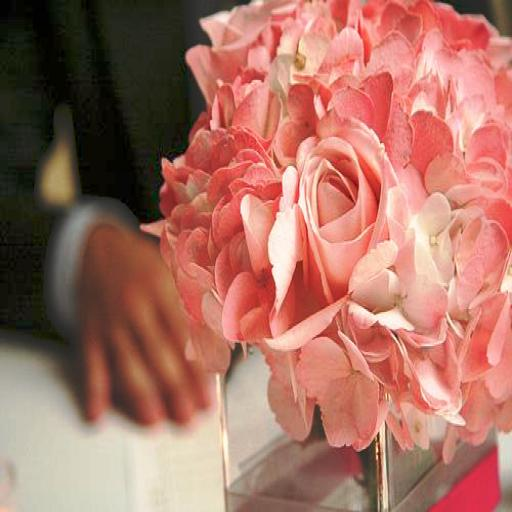rose: (290, 112, 388, 277)
